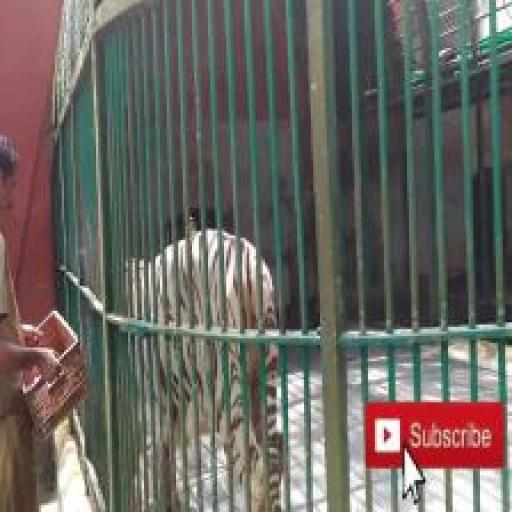Elephant: (112, 230, 296, 512), (128, 229, 280, 334)
